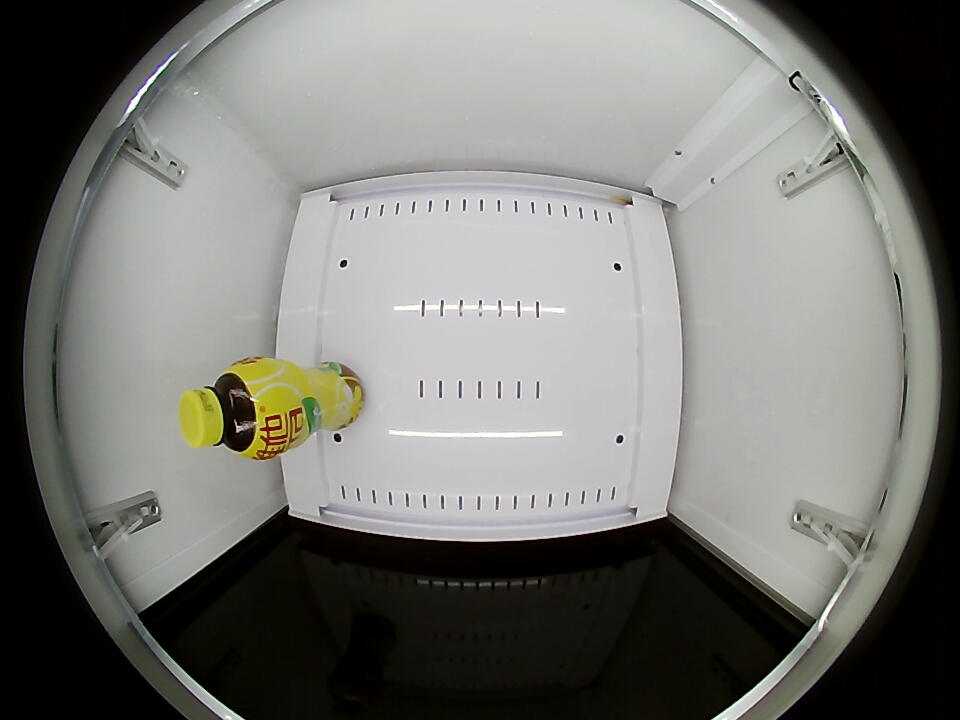weitaningmeng-bottle: (179, 359, 283, 460)
